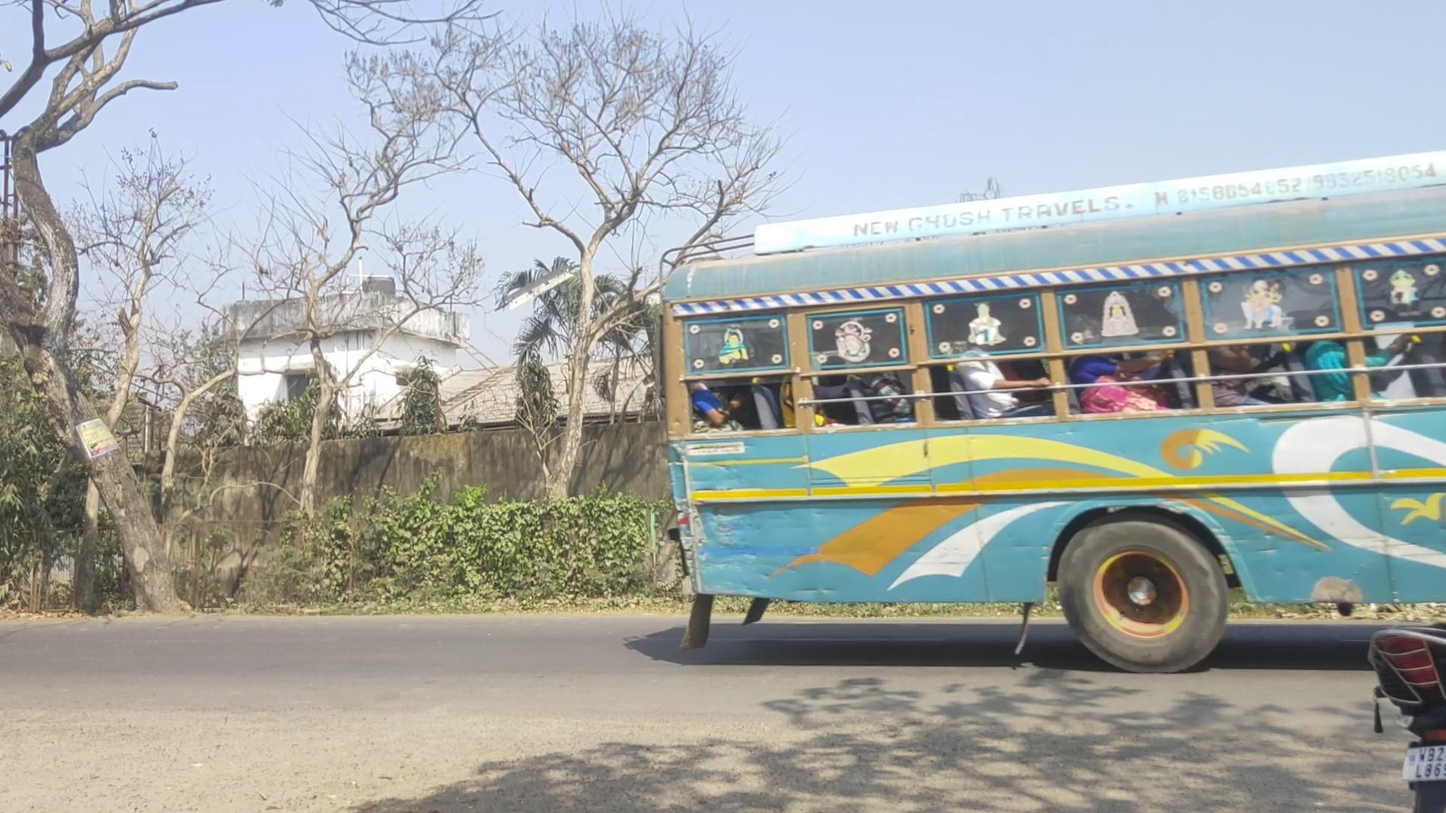Bus: (647, 151, 1446, 675)
